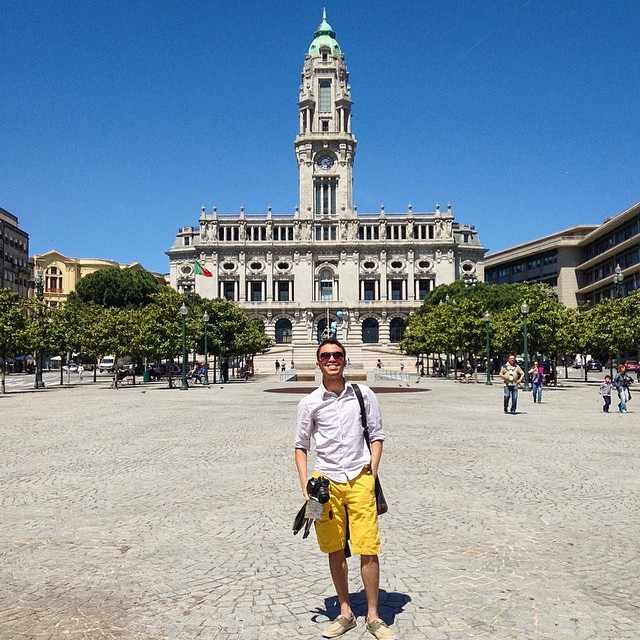camara: (163, 5, 490, 347)
